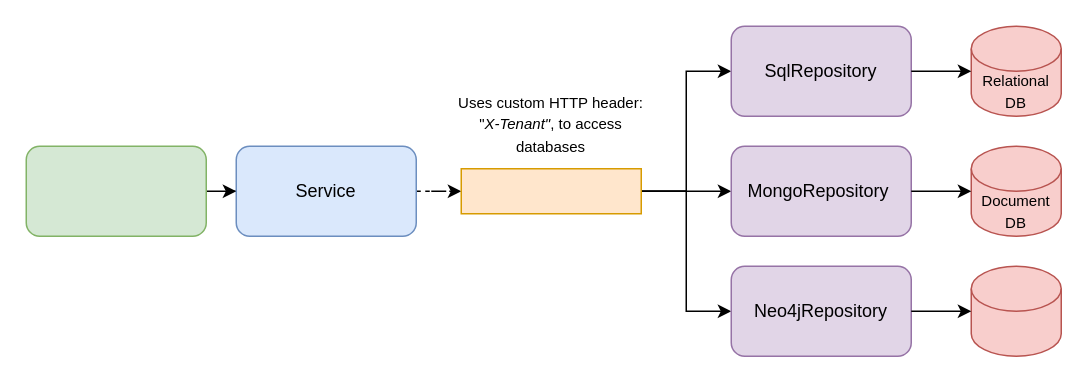
This 1088x383 diagram has some shape labels left out. Here are the shapes that lost their labels. From the top down, the centre of each, then its label:
the point at 115,190: Controller
the point at 550,190: RepositoryFactory
the point at 1015,310: Graph DB
